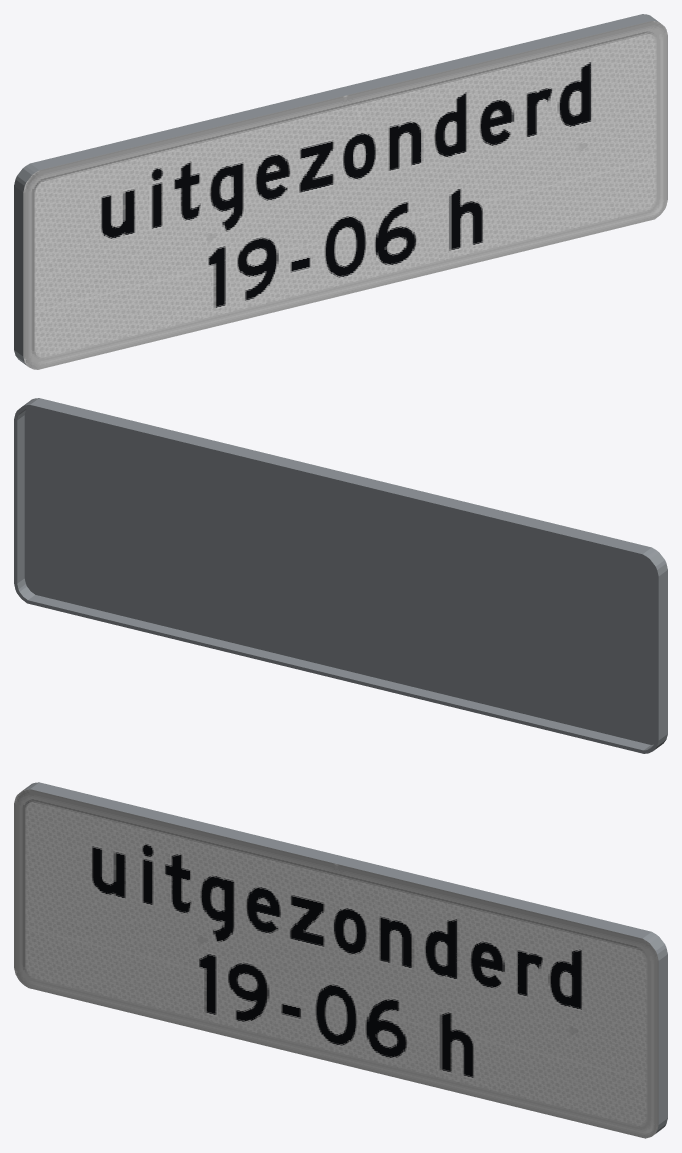
3 renders of one model, top to bottom at view 1: azimuth 30°, elevation 25°; view 2: azimuth 150°, elevation 25°; view 3: azimuth 330°, elevation 25°, orthographic.
Visible parts, largest first — view 1: cat_fd51b0b99466b3f7; view 2: cat_fd51b0b99466b3f7; view 3: cat_fd51b0b99466b3f7.
Boxes of the visible parts, left/top/right/bottom form: cat_fd51b0b99466b3f7: left=14, top=14, right=667, bottom=369; cat_fd51b0b99466b3f7: left=14, top=398, right=667, bottom=753; cat_fd51b0b99466b3f7: left=14, top=782, right=667, bottom=1138.
Size of the model in its own units: 0.6 by 0.015 by 0.1773.
2 materials, 1 textured.
